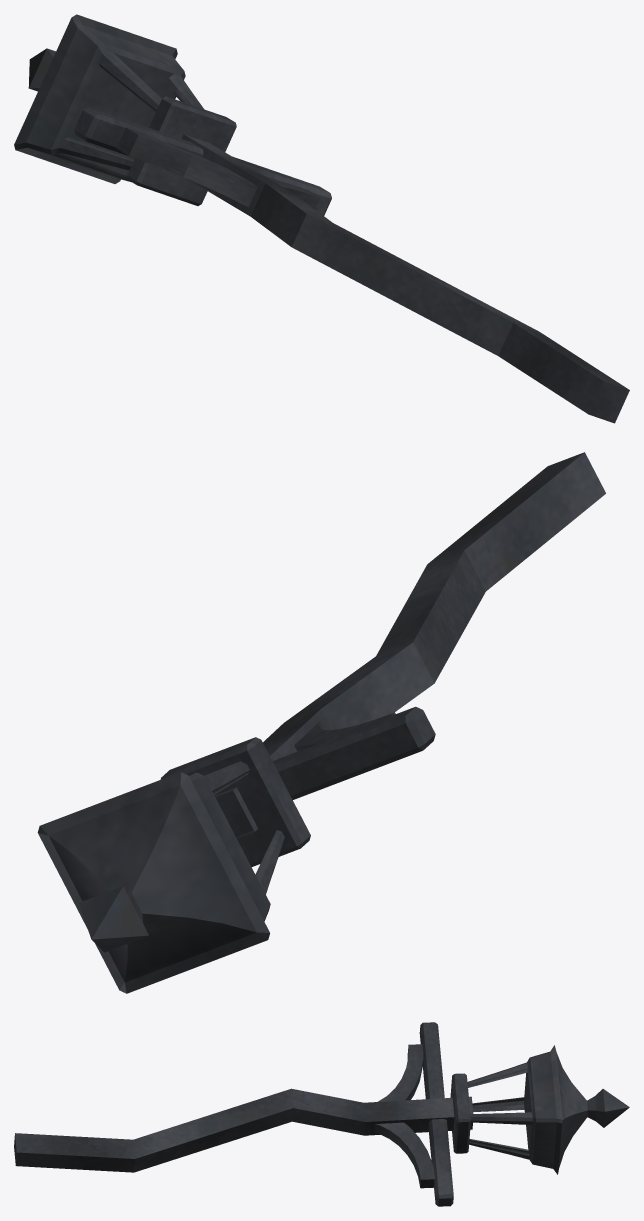
Rendered from LanternF.FBX.
The picture shows the model from 3 angles, top to bottom: view 1: azimuth 30°, elevation 25°; view 2: azimuth 150°, elevation 25°; view 3: azimuth 270°, elevation 25°; orthographic projection. The views are drawn at different scales.
Visible parts, largest first — view 1: pCube1328_10__Metal00; view 2: pCube1328_10__Metal00; view 3: pCube1328_10__Metal00.
Boxes of the visible parts, x1,y1,x2,y2 form: pCube1328_10__Metal00: [14, 14, 629, 423]; pCube1328_10__Metal00: [37, 452, 605, 993]; pCube1328_10__Metal00: [14, 1022, 629, 1206].
Size of the model in its own units: 131 by 86.67 by 416.
